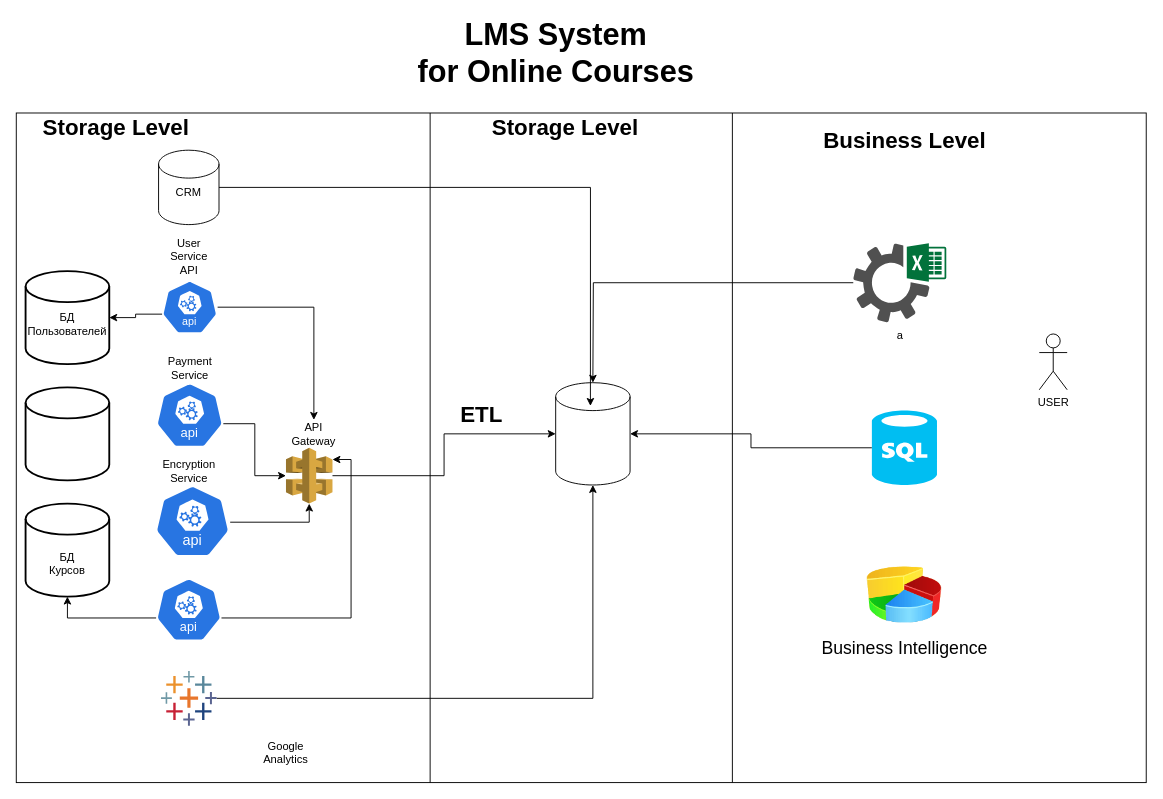
Image size: 1163x799. Some labels were removed from this diagram. Each missing label, with the box of its shape:
Data Warehouse: (555, 382, 630, 485)
LMS API: (155, 577, 222, 641)
БД финансов: (24, 386, 110, 481)
